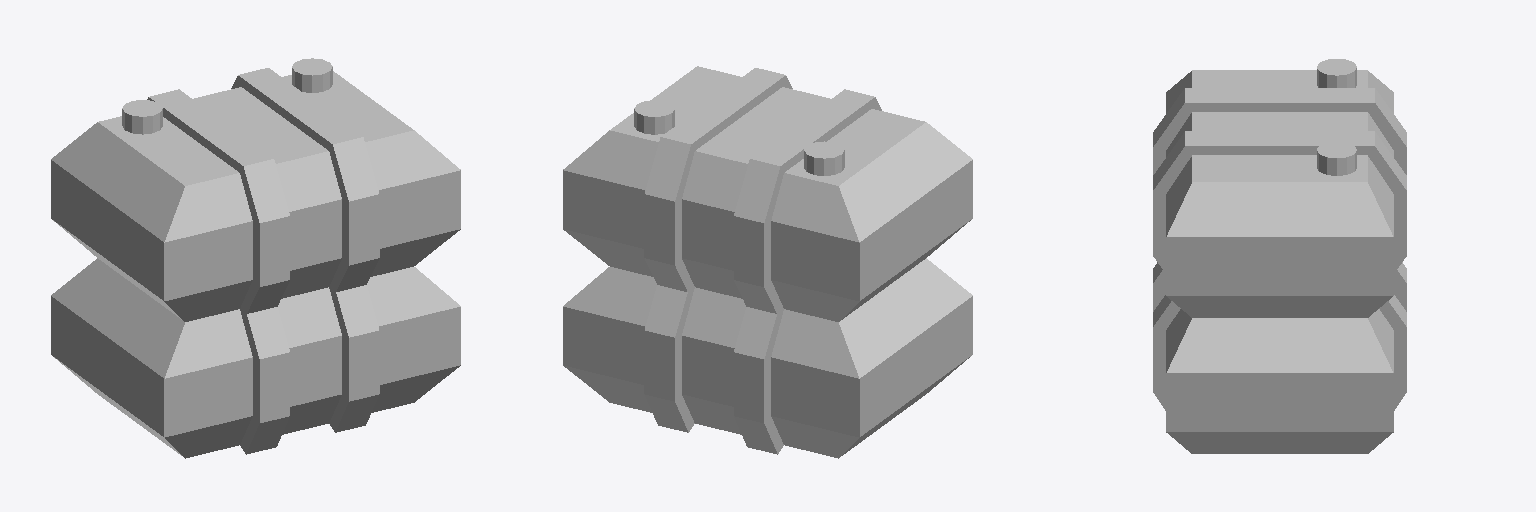
File: Battery_Grey.obj
The picture shows the model from 3 angles: view 1: azimuth 30°, elevation 25°; view 2: azimuth 150°, elevation 25°; view 3: azimuth 270°, elevation 25°; orthographic projection.
Parts seen in each view (by area): view 1: Battery_Grey; view 2: Battery_Grey; view 3: Battery_Grey.
Part boxes in pixels (x1,y1,x2,y2): Battery_Grey: (51,58,460,458); Battery_Grey: (563,66,972,458); Battery_Grey: (1153,59,1406,453).
Bounding box in the file's own units: 0.9041 × 0.8583 × 0.671.